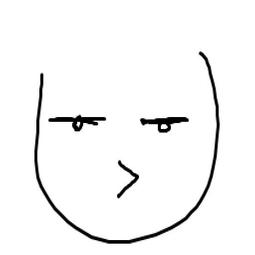pointy_nose: (111, 156, 149, 201)
small_eye: (133, 107, 189, 139), (43, 114, 110, 137)
